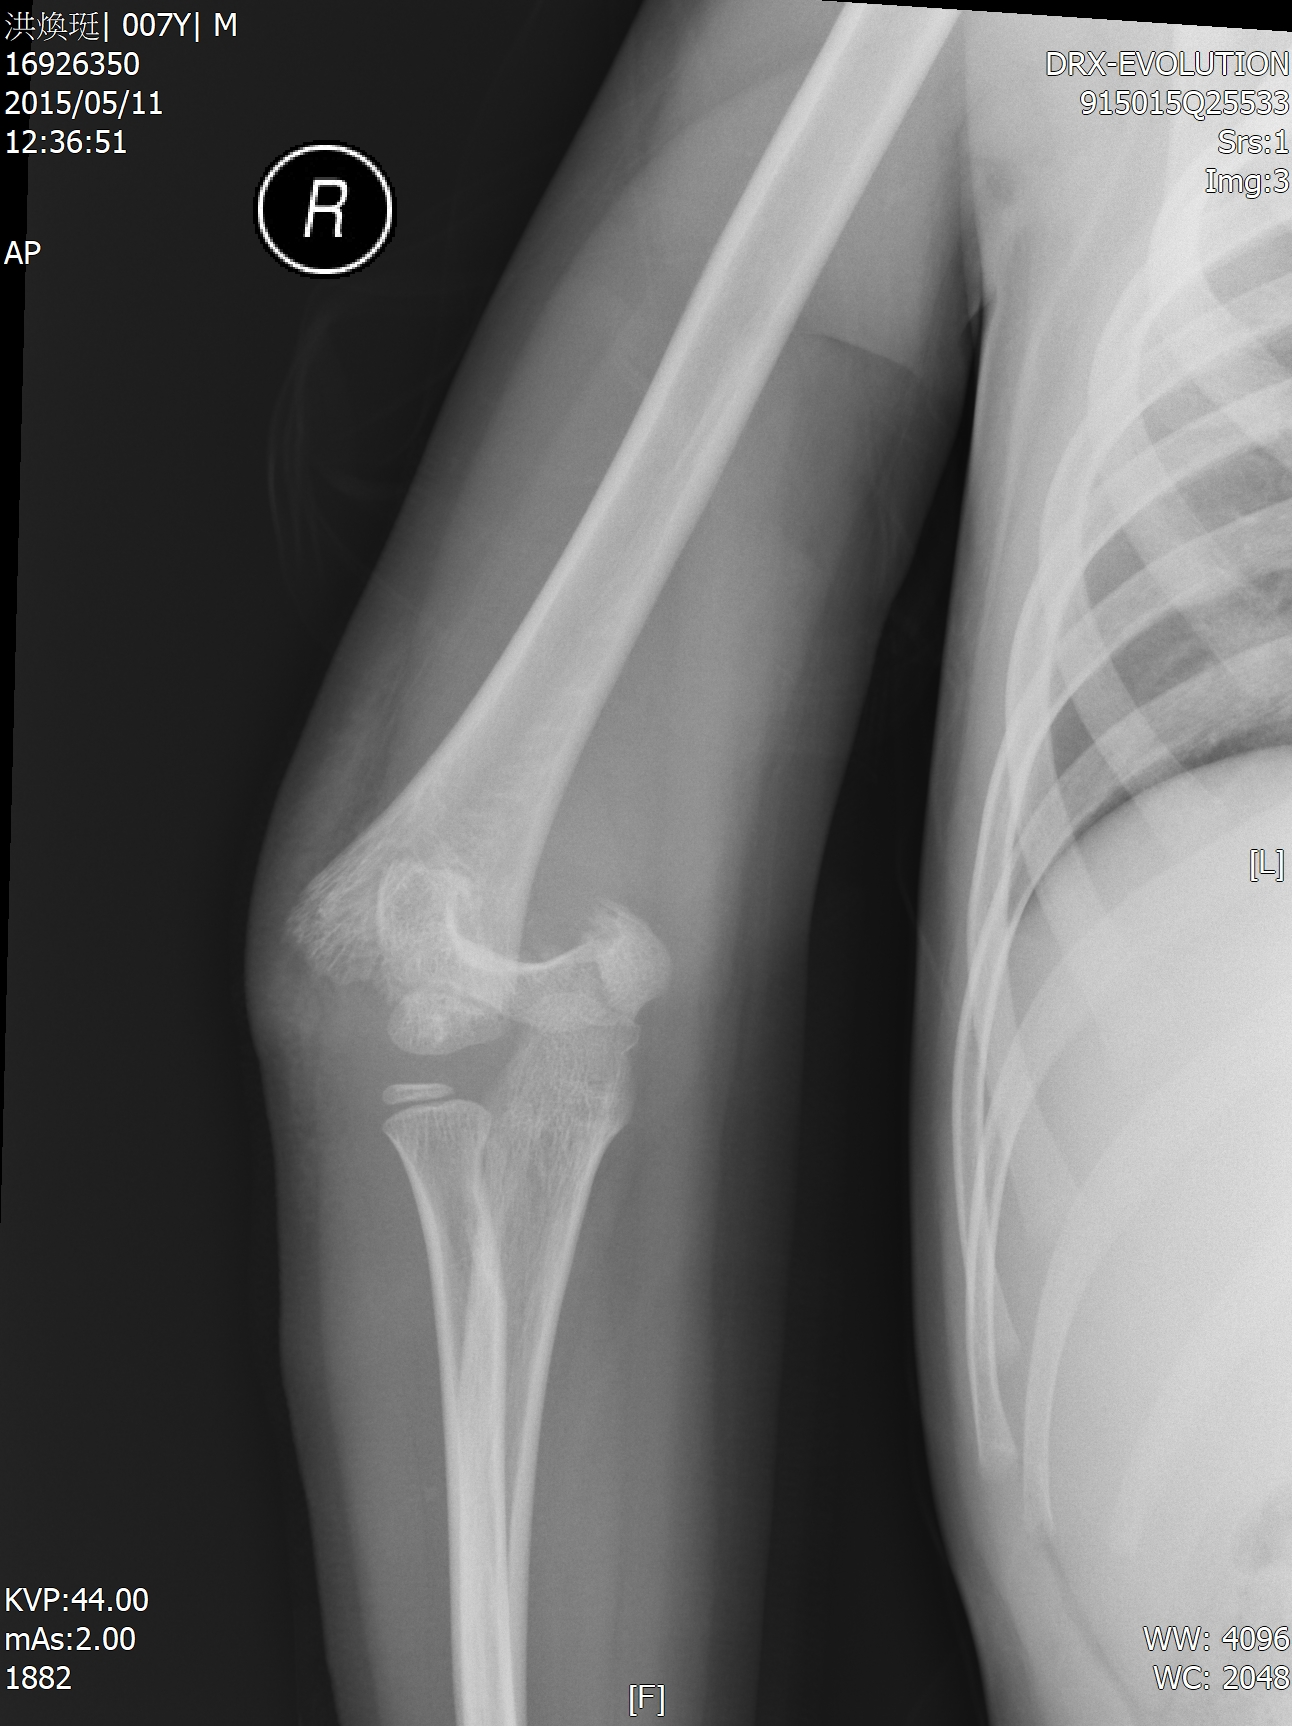SCF type 3: (182, 702, 775, 1286)
